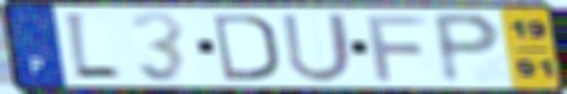3: (127, 9, 192, 84)
D: (209, 12, 282, 82)
F: (363, 12, 431, 83)
L: (61, 9, 125, 83)
P: (430, 10, 506, 86)
U: (278, 11, 356, 85)
